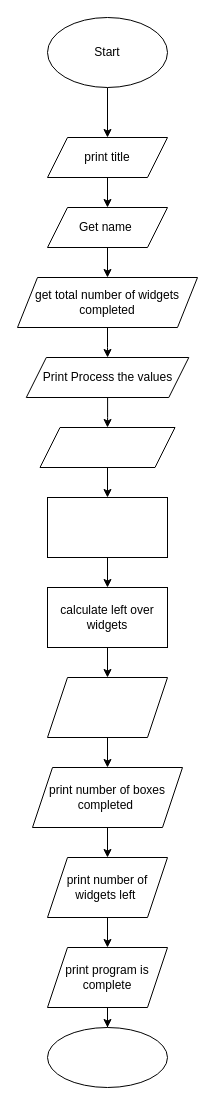
The diagram is 215 pixels wide and 1105 high, and some of its shapes have lost their labels. Here are the shapes that lost their labels. From the top down, the centre of each, then its label:
point (107, 447): Print processing is complete
point (107, 527): Calculate total number of boxes
point (107, 707): print name
point (107, 1057): End Terminal
